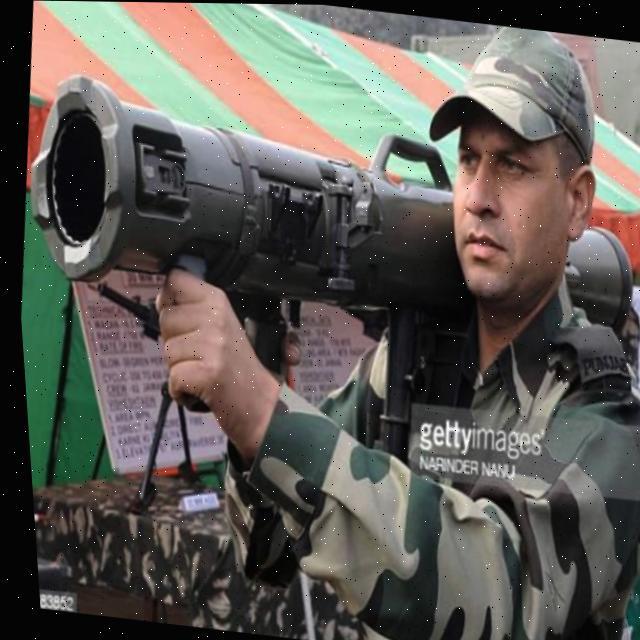rocket: (16, 42, 640, 350)
